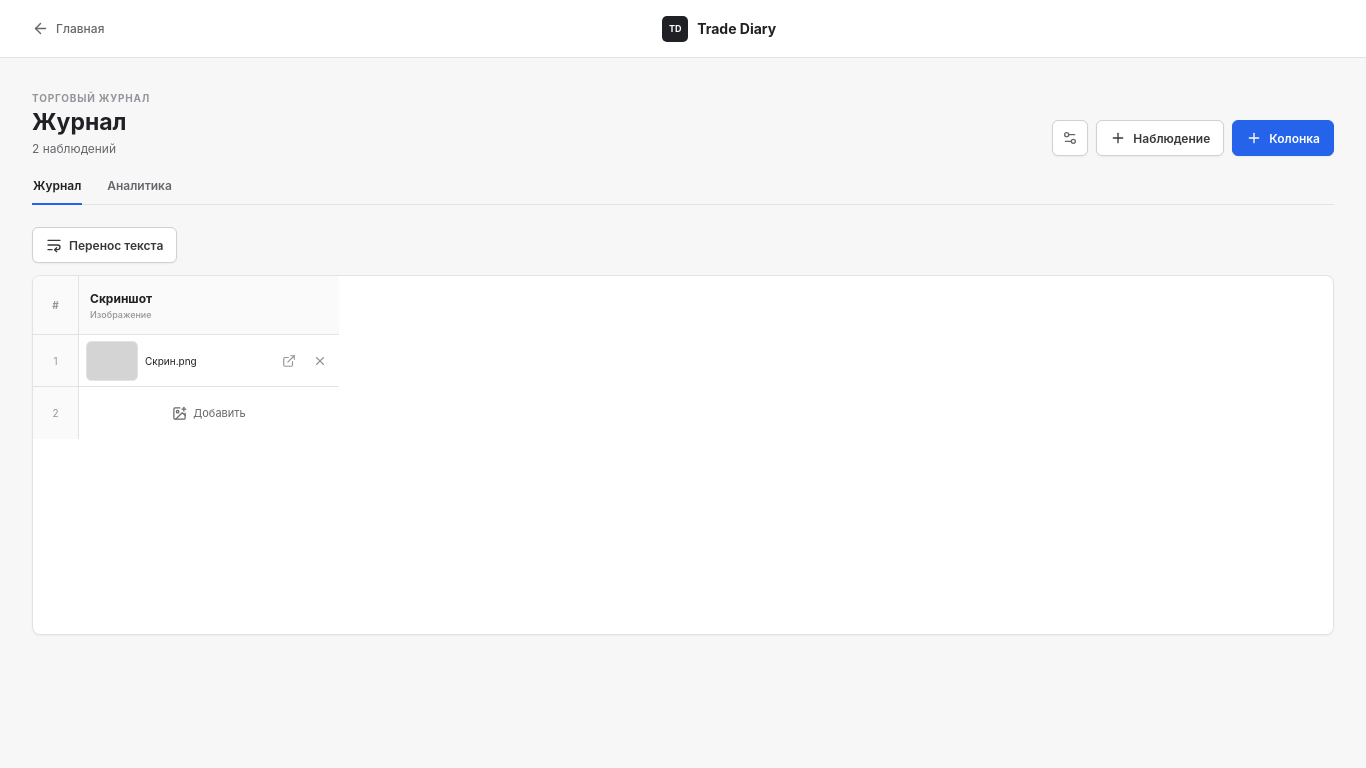
Test: journal pending actions › blocks repeated image deletion and unlocks after failure
Expected: the text titled "Скрин.png" is shown, left=145, top=354, right=197, bottom=366
Click the button named "Удалить изображение".
click(320, 360)  # box left=308, top=347, right=332, bottom=374
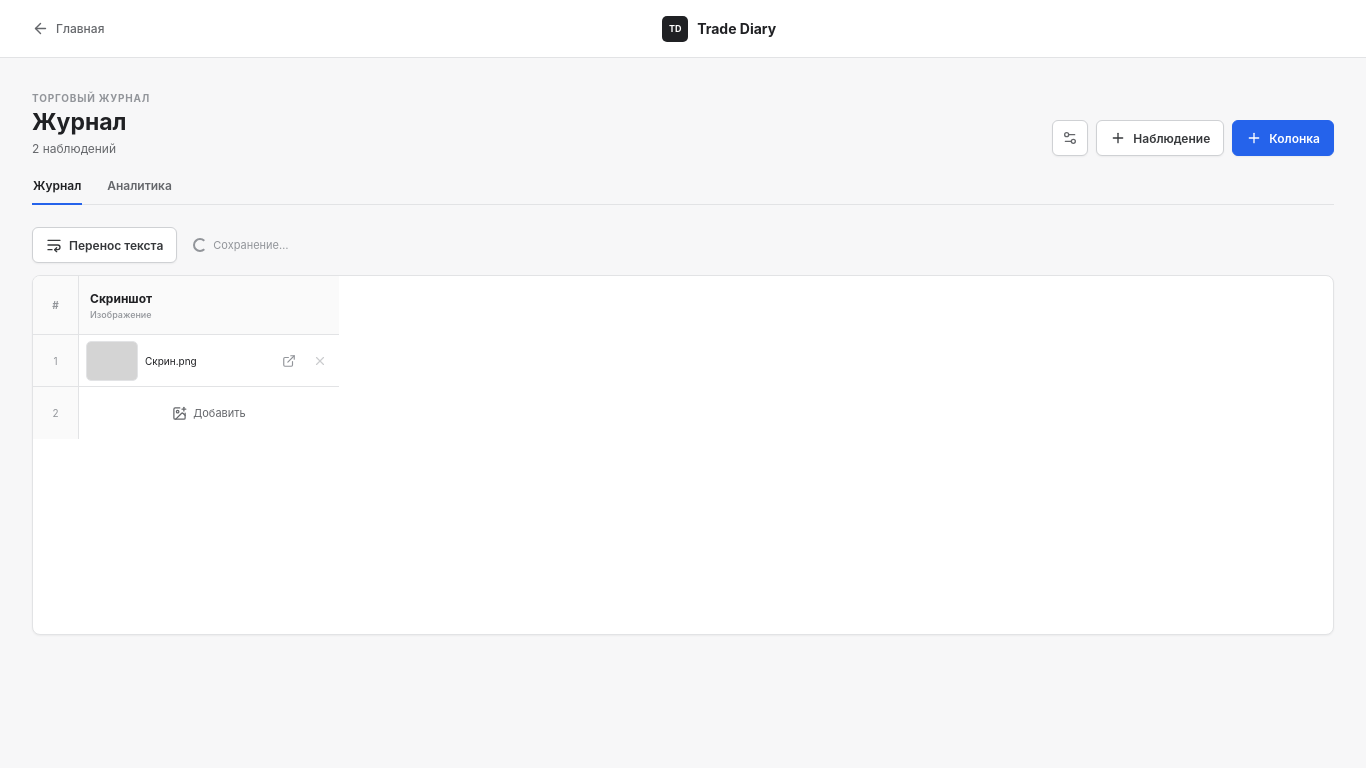
Expected: the button named "Удалить изображение" is disabled
Click the button named "Удалить изображение".
click(320, 360)  # box left=308, top=347, right=332, bottom=374
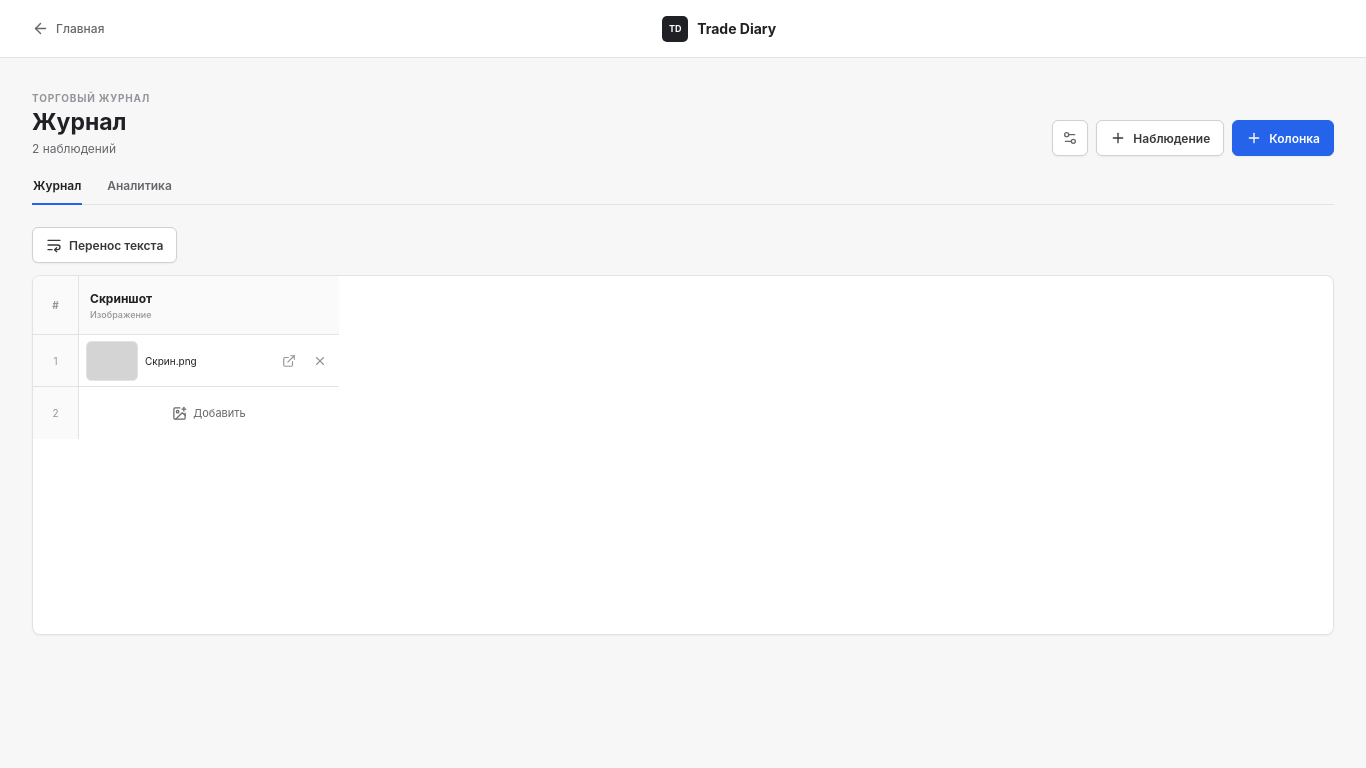
Expected: the button named "Удалить изображение" is enabled, left=308, top=347, right=332, bottom=374
